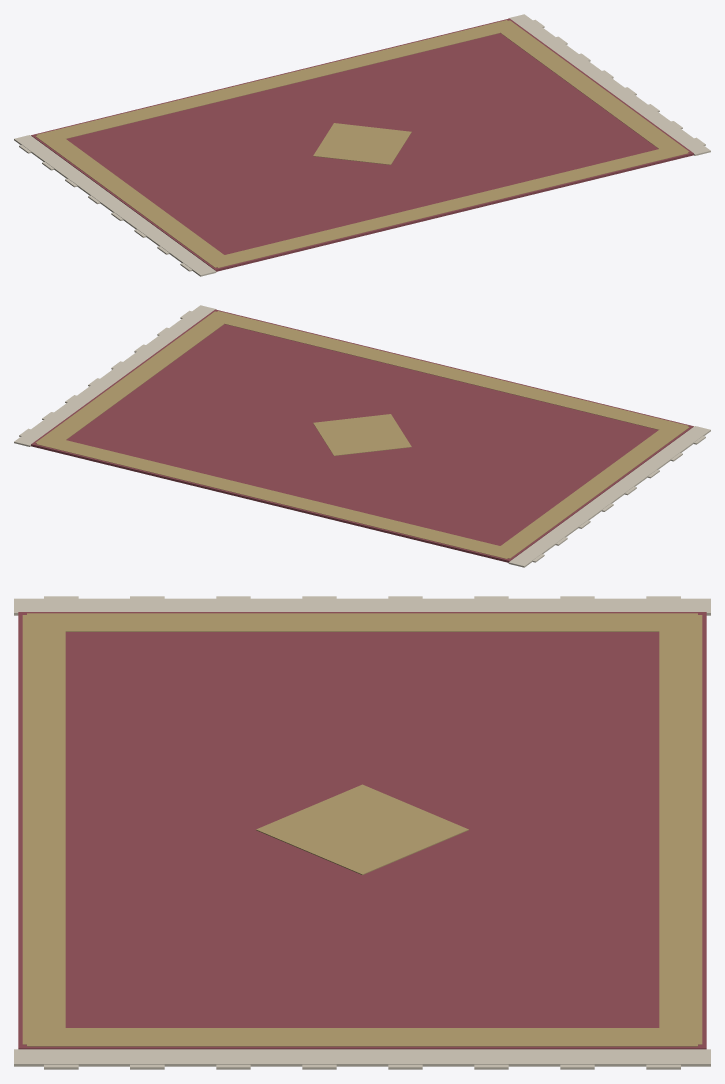
File: rug.glb
3 renders of one model, top to bottom at view 1: azimuth 30°, elevation 25°; view 2: azimuth 150°, elevation 25°; view 3: azimuth 270°, elevation 25°, orthographic. The views are drawn at different scales.
Visible parts, largest first — view 1: Rug; view 2: Rug; view 3: Rug.
Part boxes in pixels (left/top/right/bottom): Rug: left=14, top=14, right=710, bottom=276; Rug: left=14, top=305, right=710, bottom=567; Rug: left=14, top=596, right=710, bottom=1069.
Bounding box in the file's own units: 2.59 × 0.012 × 1.62.
